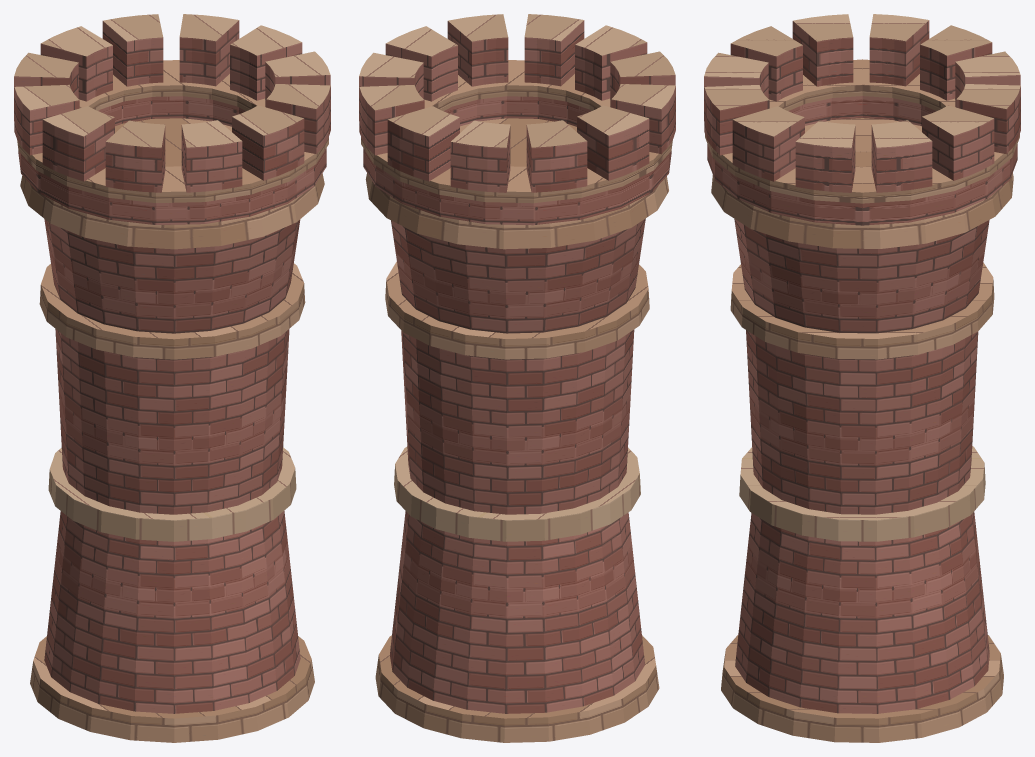
Rendered from Tower_Round_Medium.obj.
3 renders of one model, left to right at view 1: azimuth 30°, elevation 25°; view 2: azimuth 150°, elevation 25°; view 3: azimuth 270°, elevation 25°, orthographic.
Visible parts, largest first — view 1: Brick_Rose, Stone_Sand, Stone_Light; view 2: Brick_Rose, Stone_Sand, Stone_Light; view 3: Brick_Rose, Stone_Sand, Stone_Light.
Boxes of the visible parts, x1,y1,x2,y2 form: Brick_Rose: (14, 20, 330, 713); Stone_Sand: (17, 60, 328, 742); Stone_Light: (14, 14, 330, 541); Brick_Rose: (359, 20, 675, 713); Stone_Sand: (361, 60, 672, 742); Stone_Light: (359, 14, 675, 541); Brick_Rose: (704, 20, 1020, 713); Stone_Sand: (705, 59, 1019, 742); Stone_Light: (704, 14, 1020, 541).
Bounding box in the file's own units: 2.87 × 6.01 × 2.87.
3 materials, 3 textured.
